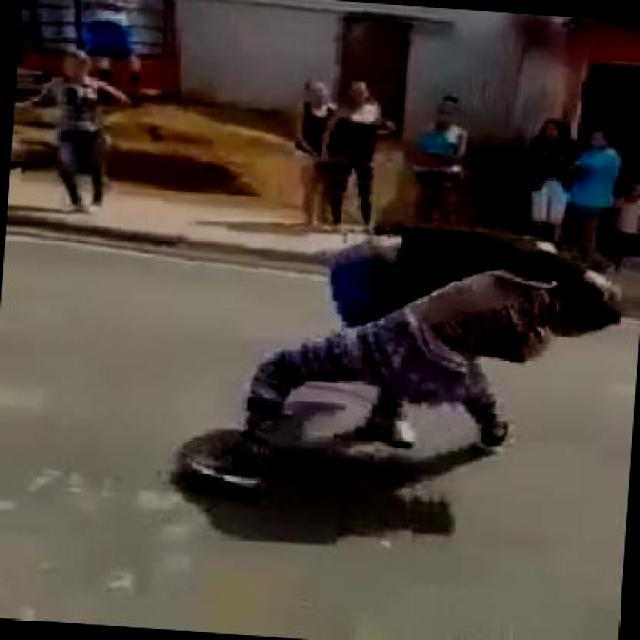fight: (246, 214, 626, 463)
